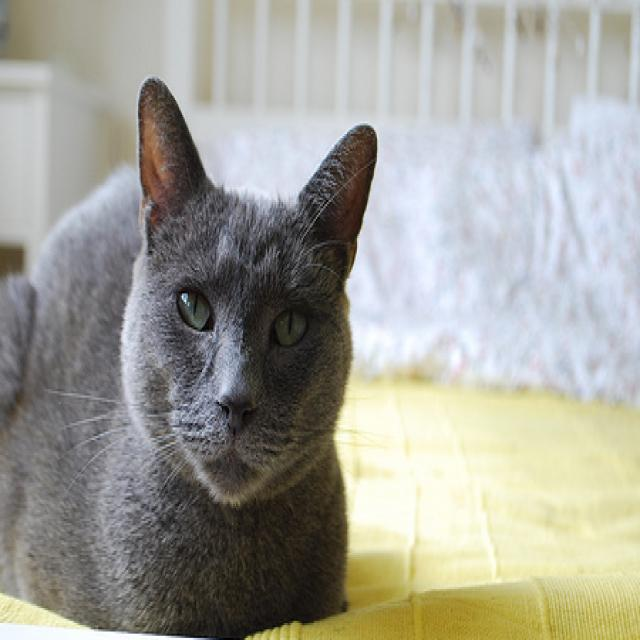Russian Blue: (0, 61, 379, 640)
